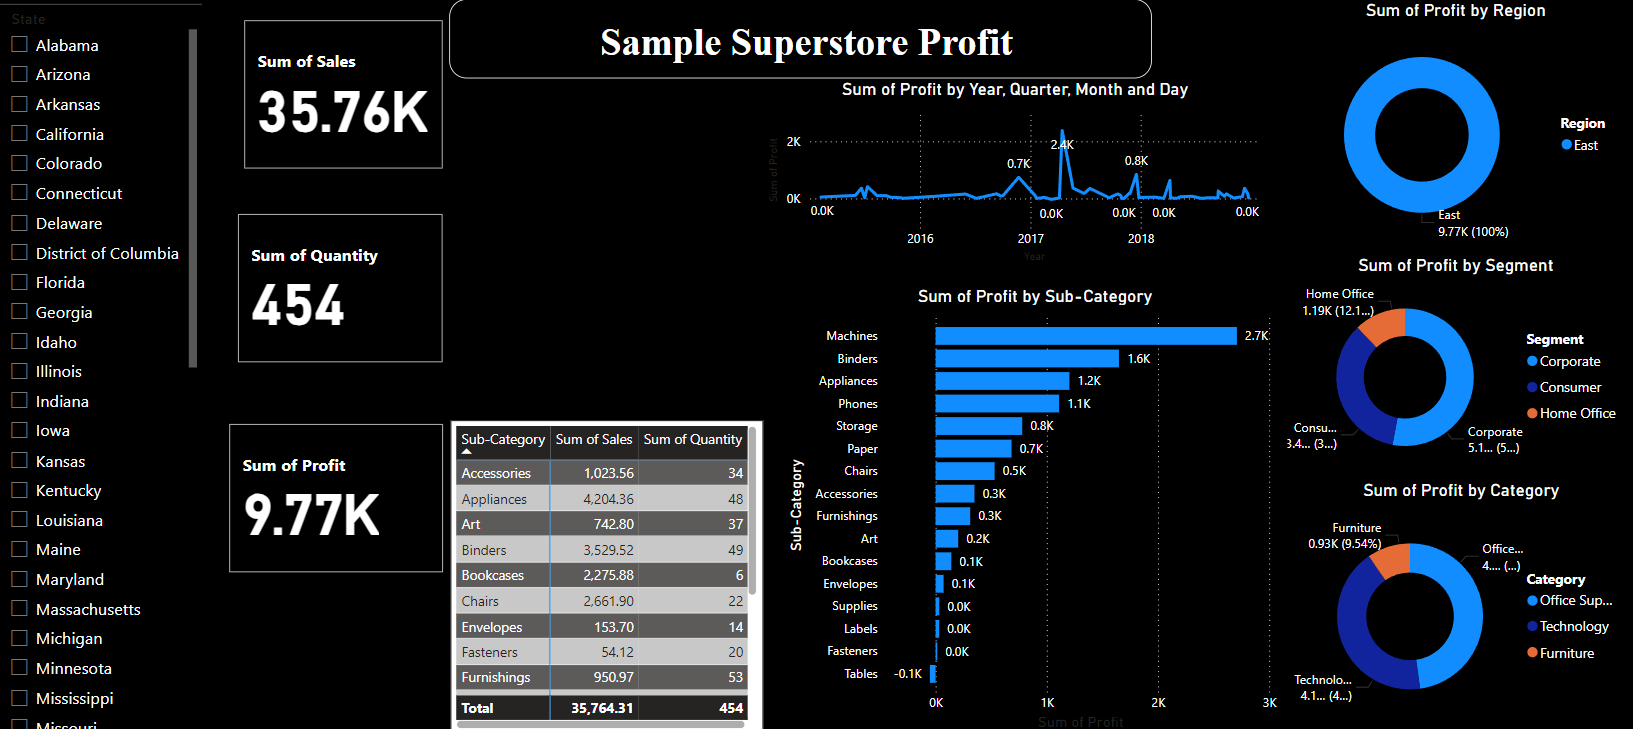

This screenshot's page, from the dashboard's own definition file:
{"tool":"powerbi","page":{"name":"Page 1","canvas":[1600,720],"ordinal":0},"visuals":[{"type":"textbox","box":[440.7,0,686.5,77.9],"z":0},{"type":"donutChart","fields":{"Category":["Orders.Category"],"Y":["Sum(Orders.Profit)"]},"box":[1260.2,469.5,337.2,250],"z":1000},{"type":"donutChart","fields":{"Y":["Sum(Orders.Profit)"],"Category":["Orders.Segment"]},"box":[1250,248.5,345.9,222.4],"z":2000},{"type":"donutChart","fields":{"Y":["Sum(Orders.Profit)"],"Category":["Orders.Region"]},"box":[1250,0,345.9,247.1],"z":3000},{"type":"barChart","fields":{"Category":["Orders.Sub-Category"],"Y":["Sum(Orders.Profit)"]},"box":[767.4,279.1,492.7,440.4],"z":4000},{"type":"lineChart","fields":{"Category":["Orders.Order Date.Variation.Date Hierarchy.Year","Orders.Order Date.Variation.Date Hierarchy.Quarter","Orders.Order Date.Variation.Date Hierarchy.Month","Orders.Order Date.Variation.Date Hierarchy.Day"],"Y":["Sum(Orders.Profit)"]},"box":[747.1,78.5,492.7,184.6],"z":5000},{"type":"slicer","fields":{"Values":["Orders.State"]},"box":[0,0,199.4,719.5],"z":6000},{"type":"pivotTable","fields":{"Rows":["Orders.Sub-Category"],"Values":["Sum(Orders.Sales)","Sum(Orders.Quantity)"]},"box":[441.9,411.3,305.2,308.1],"z":7000},{"type":"cardVisual","fields":{"Data":["Sum(Orders.Quantity)"]},"box":[229.7,204.9,210.8,155.5],"z":8000},{"type":"cardVisual","fields":{"Data":["Sum(Orders.Profit)"]},"box":[220.9,409.9,219.5,155.5],"z":9000},{"type":"cardVisual","fields":{"Data":["Sum(Orders.Sales)"]},"box":[235.5,16,204.9,155.5],"z":10000}]}

Visuals, with their boxes in screenshot pixels (x1, y1, x2, y2), scaled from the page's 1600x720 canvas onto the 1633x729 screenshot:
textbox: 450,0,1150,79
donutChart - Orders.Category x Sum(Orders.Profit): 1286,475,1630,728
donutChart - Sum(Orders.Profit) x Orders.Segment: 1276,252,1629,477
donutChart - Sum(Orders.Profit) x Orders.Region: 1276,0,1629,250
barChart - Orders.Sub-Category x Sum(Orders.Profit): 783,283,1286,728
lineChart - Orders.Order Date.Variation.Date Hierarchy.Year x Orders.Order Date.Variation.Date Hierarchy.Quarter: 763,79,1265,266
slicer - Orders.State: 0,0,204,728
pivotTable - Orders.Sub-Category x Sum(Orders.Sales): 451,416,763,728
cardVisual - Sum(Orders.Quantity): 234,207,450,365
cardVisual - Sum(Orders.Profit): 225,415,449,572
cardVisual - Sum(Orders.Sales): 240,16,449,174
